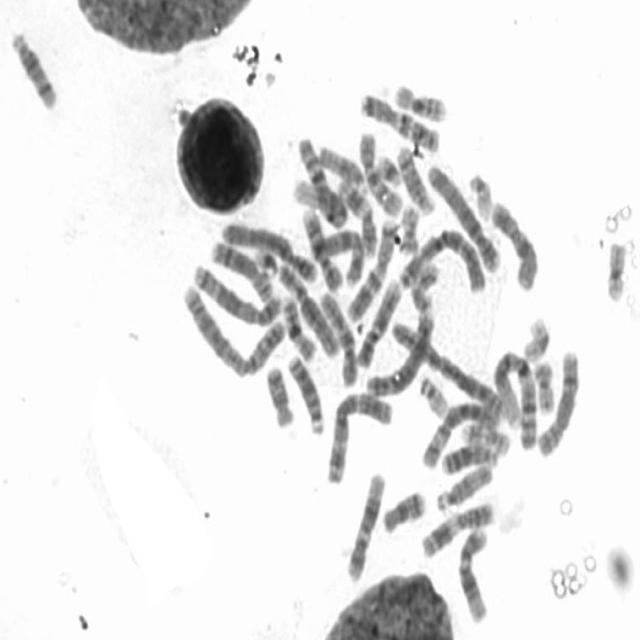A1: (490, 345, 540, 452), (294, 132, 348, 230)
A2: (389, 315, 501, 424), (178, 278, 288, 380)
A3: (322, 386, 395, 486), (396, 226, 489, 297)
B4: (424, 160, 502, 274), (219, 219, 319, 285)
B5: (190, 258, 285, 328), (363, 309, 436, 399)
C10: (356, 128, 404, 217), (318, 288, 360, 388)
C11: (418, 496, 496, 560), (336, 174, 378, 260)
C12: (344, 468, 387, 584), (455, 522, 491, 626)
C6: (275, 258, 341, 361), (418, 396, 500, 470)
C7: (344, 217, 397, 324), (357, 88, 440, 155)
C8: (534, 344, 582, 459), (207, 236, 276, 304)
C9: (355, 273, 404, 368), (299, 203, 344, 295)
D13: (284, 349, 327, 437), (438, 438, 500, 477)
D14: (7, 24, 59, 112), (394, 143, 436, 216)
D15: (432, 459, 494, 512), (315, 140, 367, 193)
E16: (278, 291, 318, 363), (391, 79, 448, 123)
E17: (458, 420, 510, 458), (409, 258, 440, 314)
E18: (262, 361, 296, 430), (380, 487, 427, 535)
F19: (603, 236, 629, 304), (520, 312, 552, 364)
F20: (532, 355, 557, 415), (398, 200, 421, 258)
G21: (373, 151, 404, 190), (252, 244, 280, 276)
G22: (416, 372, 449, 420), (466, 168, 492, 222)
X: (488, 195, 539, 292)
